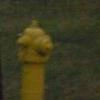Hydrant: (11, 13, 66, 100)
